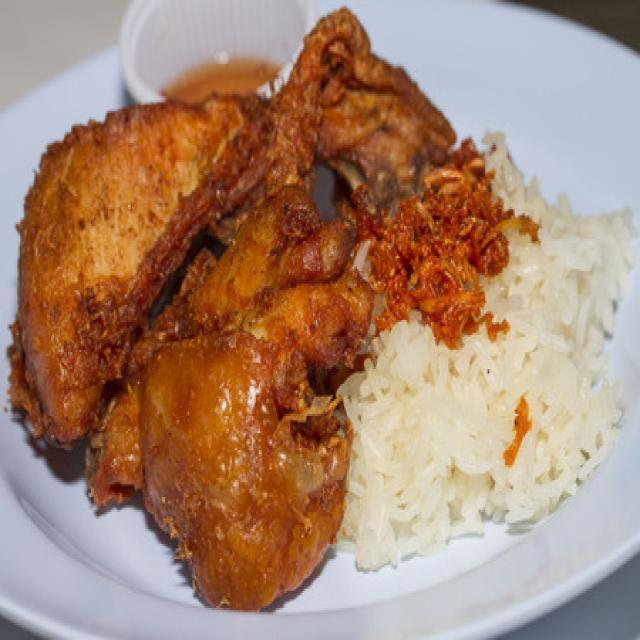thit ga: (10, 7, 460, 614)
xoi: (345, 124, 637, 582)
xoi ga chien: (9, 8, 638, 622)
